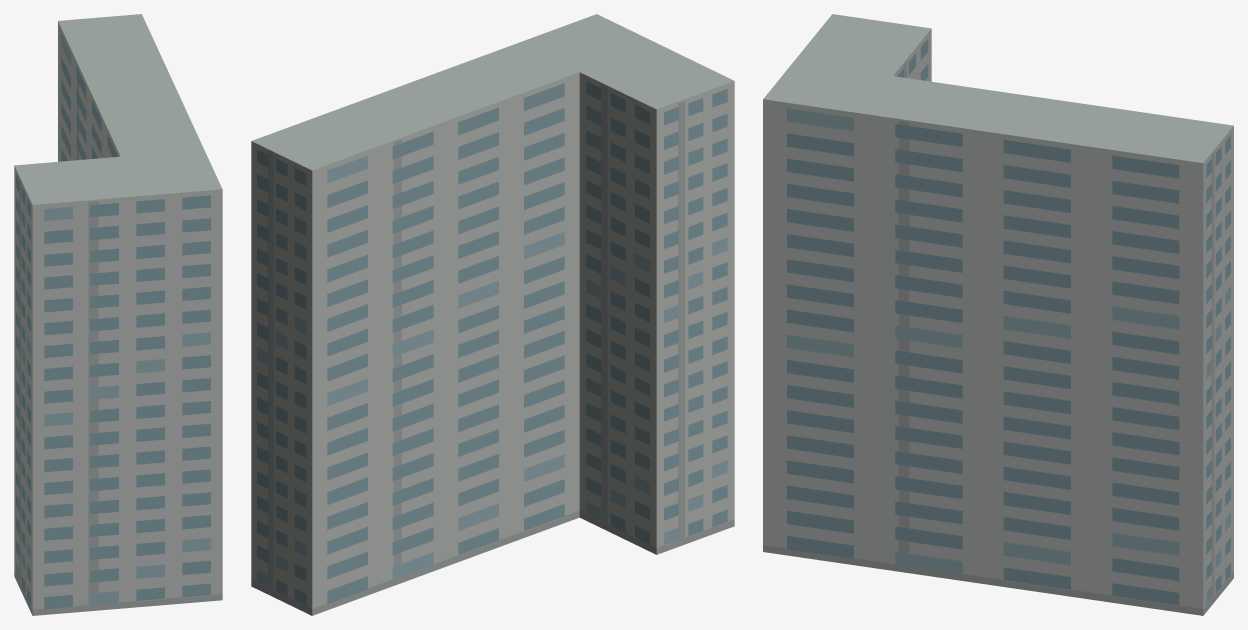
File: residential-a773b2aa-88e6-42e2-8e76-b41f905ccd20.glb
3 views of the same model, side by side, from view 1: azimuth 30°, elevation 25°; view 2: azimuth 150°, elevation 25°; view 3: azimuth 270°, elevation 25° (orthographic). The views are drawn at different scales.
Parts seen in each view (by area): view 1: residential-a773b2aa-88e6-42e2-8e76-b41f905ccd20.tmp; view 2: residential-a773b2aa-88e6-42e2-8e76-b41f905ccd20.tmp; view 3: residential-a773b2aa-88e6-42e2-8e76-b41f905ccd20.tmp.
Part boxes in pixels (x1,y1,x2,y2): residential-a773b2aa-88e6-42e2-8e76-b41f905ccd20.tmp: (14,14,222,615); residential-a773b2aa-88e6-42e2-8e76-b41f905ccd20.tmp: (251,14,734,615); residential-a773b2aa-88e6-42e2-8e76-b41f905ccd20.tmp: (763,14,1233,615).
Bounding box in the file's own units: 36.76 × 52 × 49.01.
